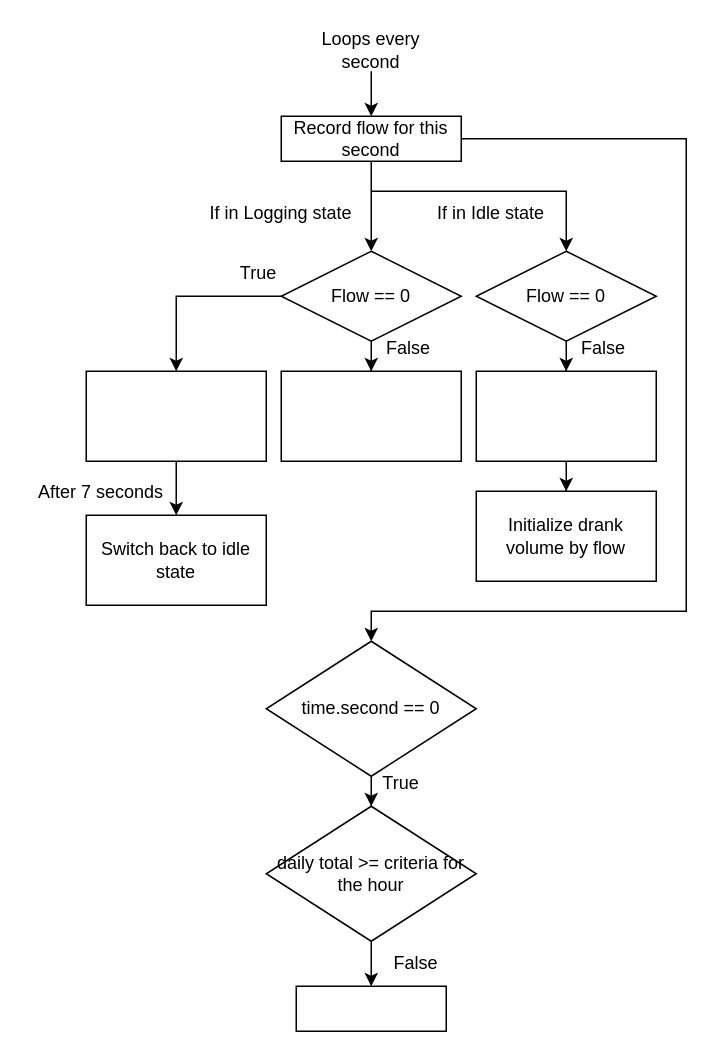
Image size: 725x1058. Some labels were removed from this diagram. Here are the shapes that lost their labels. From the top down, the centre of each, then its label:
At pixel 175 415: "Stop logging, Add the drank volume to dail total, switch to displaying state".
At pixel 370 415: "Increment the drank volume by flow".
At pixel 565 415: "Switch to logging state".
At pixel 370 1008: "Alert".
